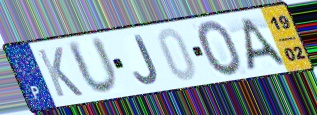0: (156, 26, 200, 84)
A: (239, 15, 289, 72)
J: (132, 33, 161, 86)
K: (35, 45, 86, 99)
O: (196, 19, 244, 79)
U: (64, 34, 121, 97)
